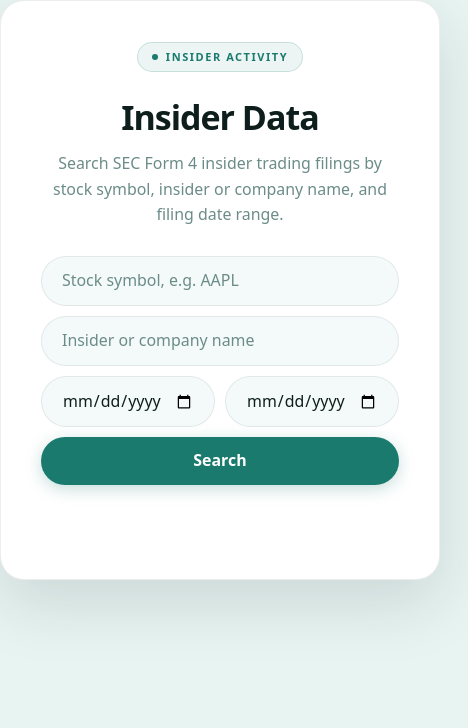
Test case: InsiderData › shows a friendly message when the search succeeds with no matches
In the field with id "txtInsiderName": point(220, 341) [41,316,399,366], type "nobody matches this"
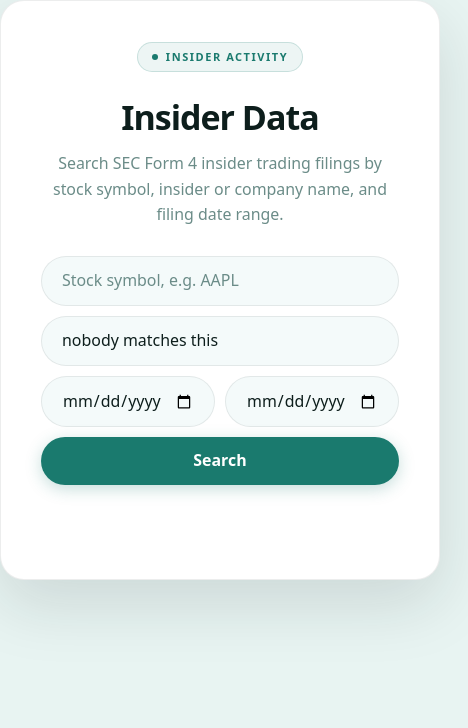
Click the button "Search": point(220, 461) [41,438,399,485]
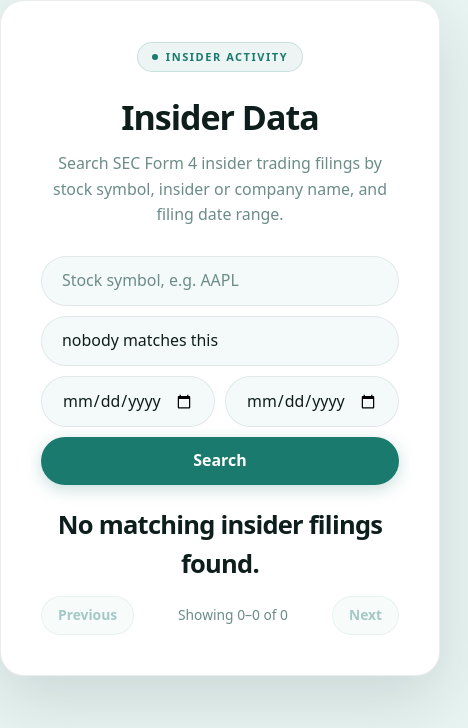
Check: the text "No matching insider filings found." is shown, box [41,505,399,582]
